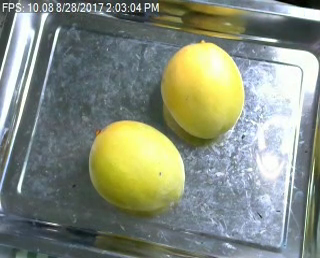Mango: (153, 34, 248, 139), (90, 115, 184, 214)
